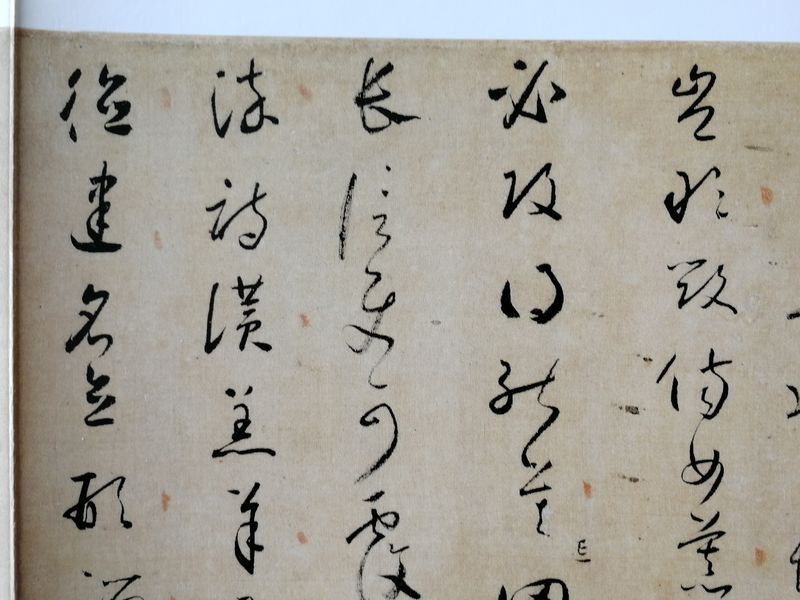zi: (348, 489, 429, 600), (211, 380, 284, 466), (60, 63, 136, 144), (491, 50, 567, 130), (658, 348, 740, 422), (494, 354, 561, 442), (204, 275, 275, 358), (207, 63, 282, 140), (202, 172, 270, 255), (342, 268, 398, 367), (498, 155, 571, 228), (219, 478, 271, 580), (354, 52, 417, 136), (61, 467, 134, 537), (500, 260, 571, 329), (680, 516, 737, 600), (71, 165, 124, 255), (342, 168, 395, 255), (664, 159, 730, 226), (670, 62, 721, 146), (62, 281, 116, 357), (517, 448, 561, 539), (354, 402, 403, 479), (670, 258, 737, 313), (679, 438, 732, 499), (81, 364, 117, 433), (493, 570, 573, 600), (81, 563, 143, 600)
